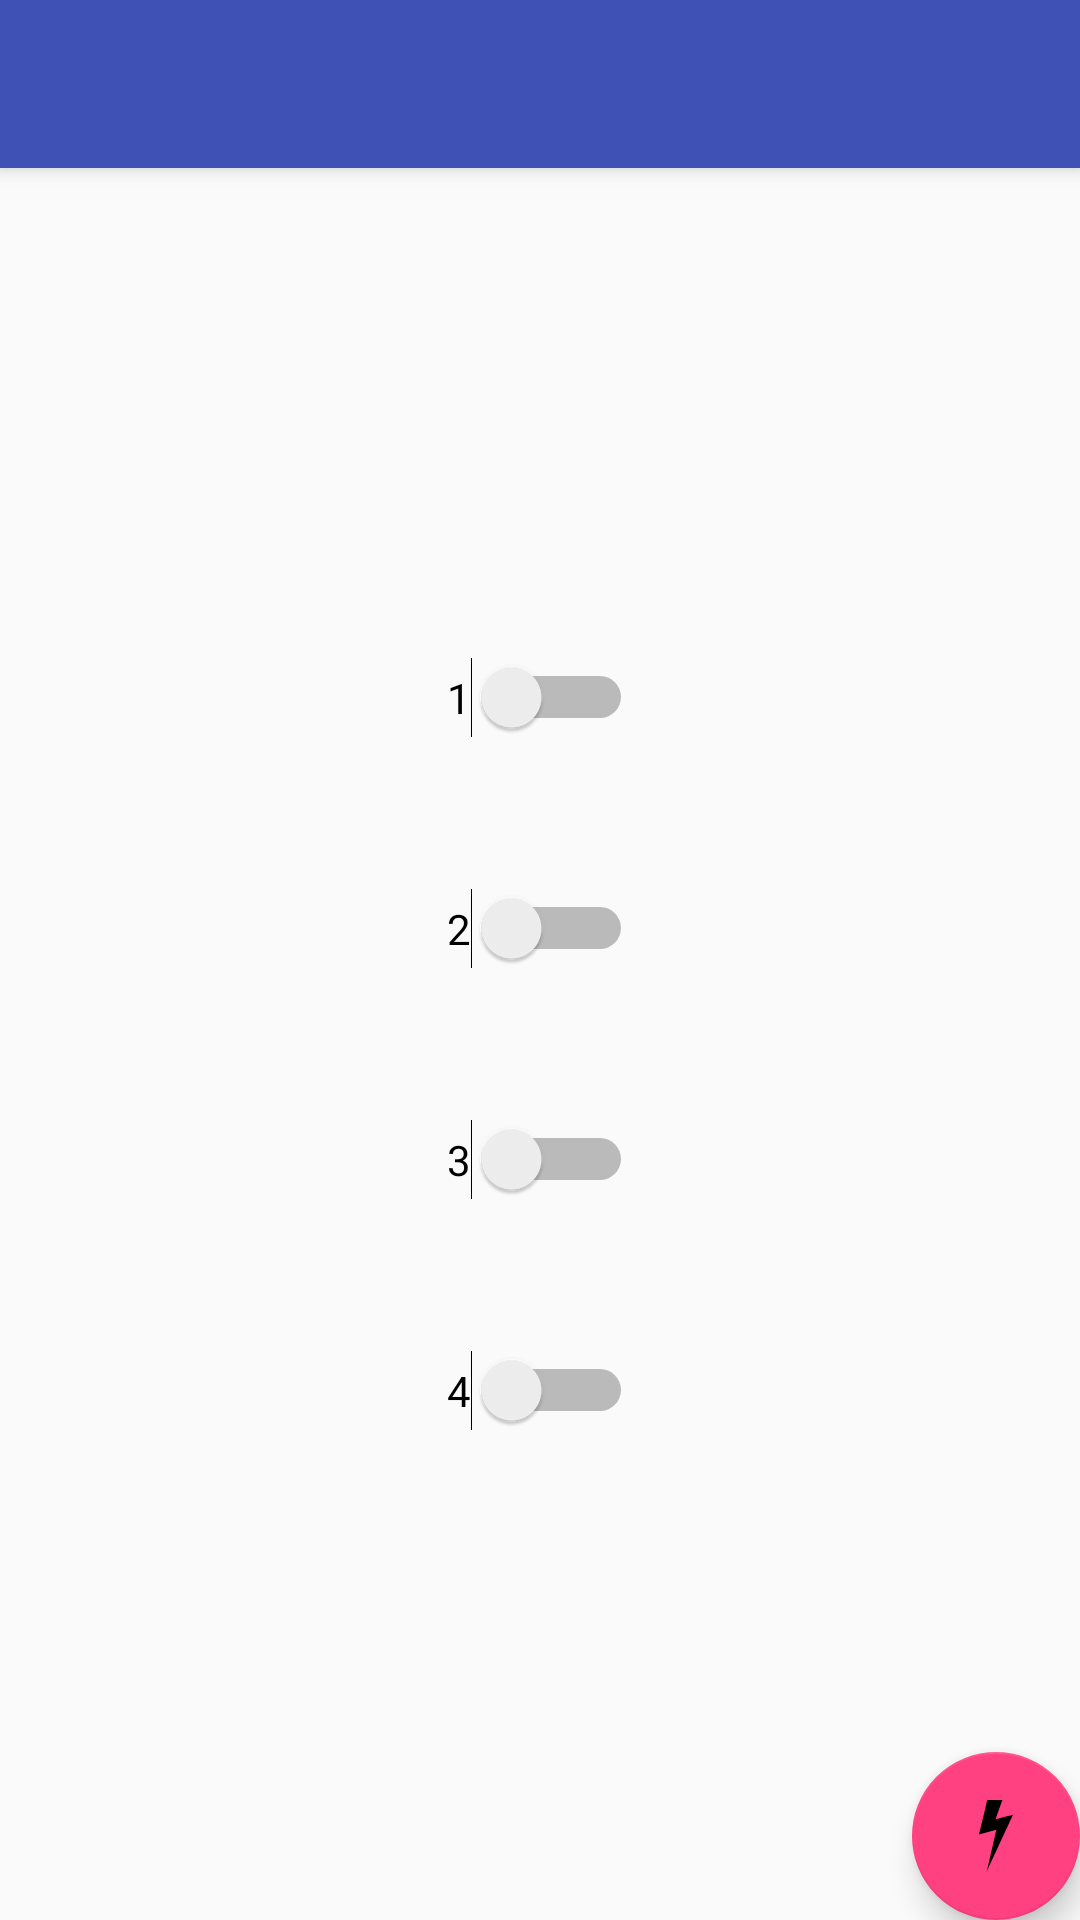

Locate icon controls on the screen. Image size 1080×1920, boxes as (x1, y1, x2, y2).
acdc: (912, 1752, 1080, 1920)
